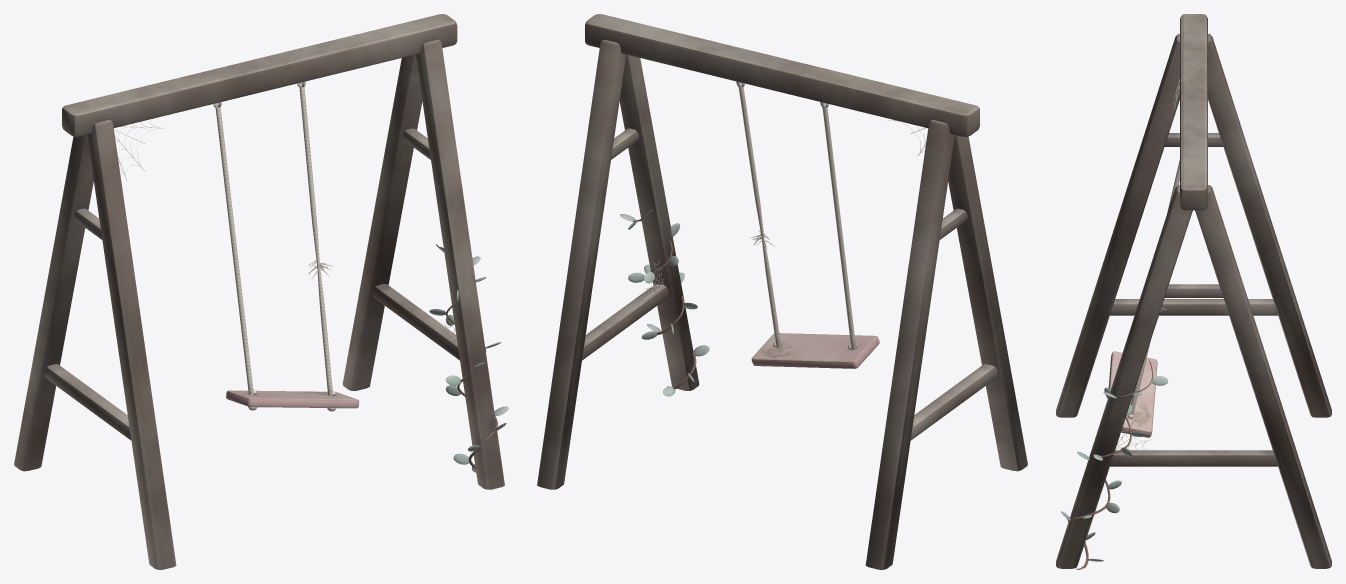
The model's file is columpio_tetrico.glb.
3 views of the same model, side by side, from view 1: azimuth 30°, elevation 25°; view 2: azimuth 150°, elevation 25°; view 3: azimuth 270°, elevation 25° (orthographic). The views are drawn at different scales.
Parts seen in each view (by area): view 1: creepy-swing_body; view 2: creepy-swing_body; view 3: creepy-swing_body.
Boxes of the visible parts, x1,y1,x2,y2 form: creepy-swing_body: (14, 14, 508, 569); creepy-swing_body: (537, 14, 1027, 569); creepy-swing_body: (1056, 14, 1331, 569).
Bounding box in the file's own units: 2.16 × 2.2 × 1.42.
Materials: 3 (2 with a texture image).
